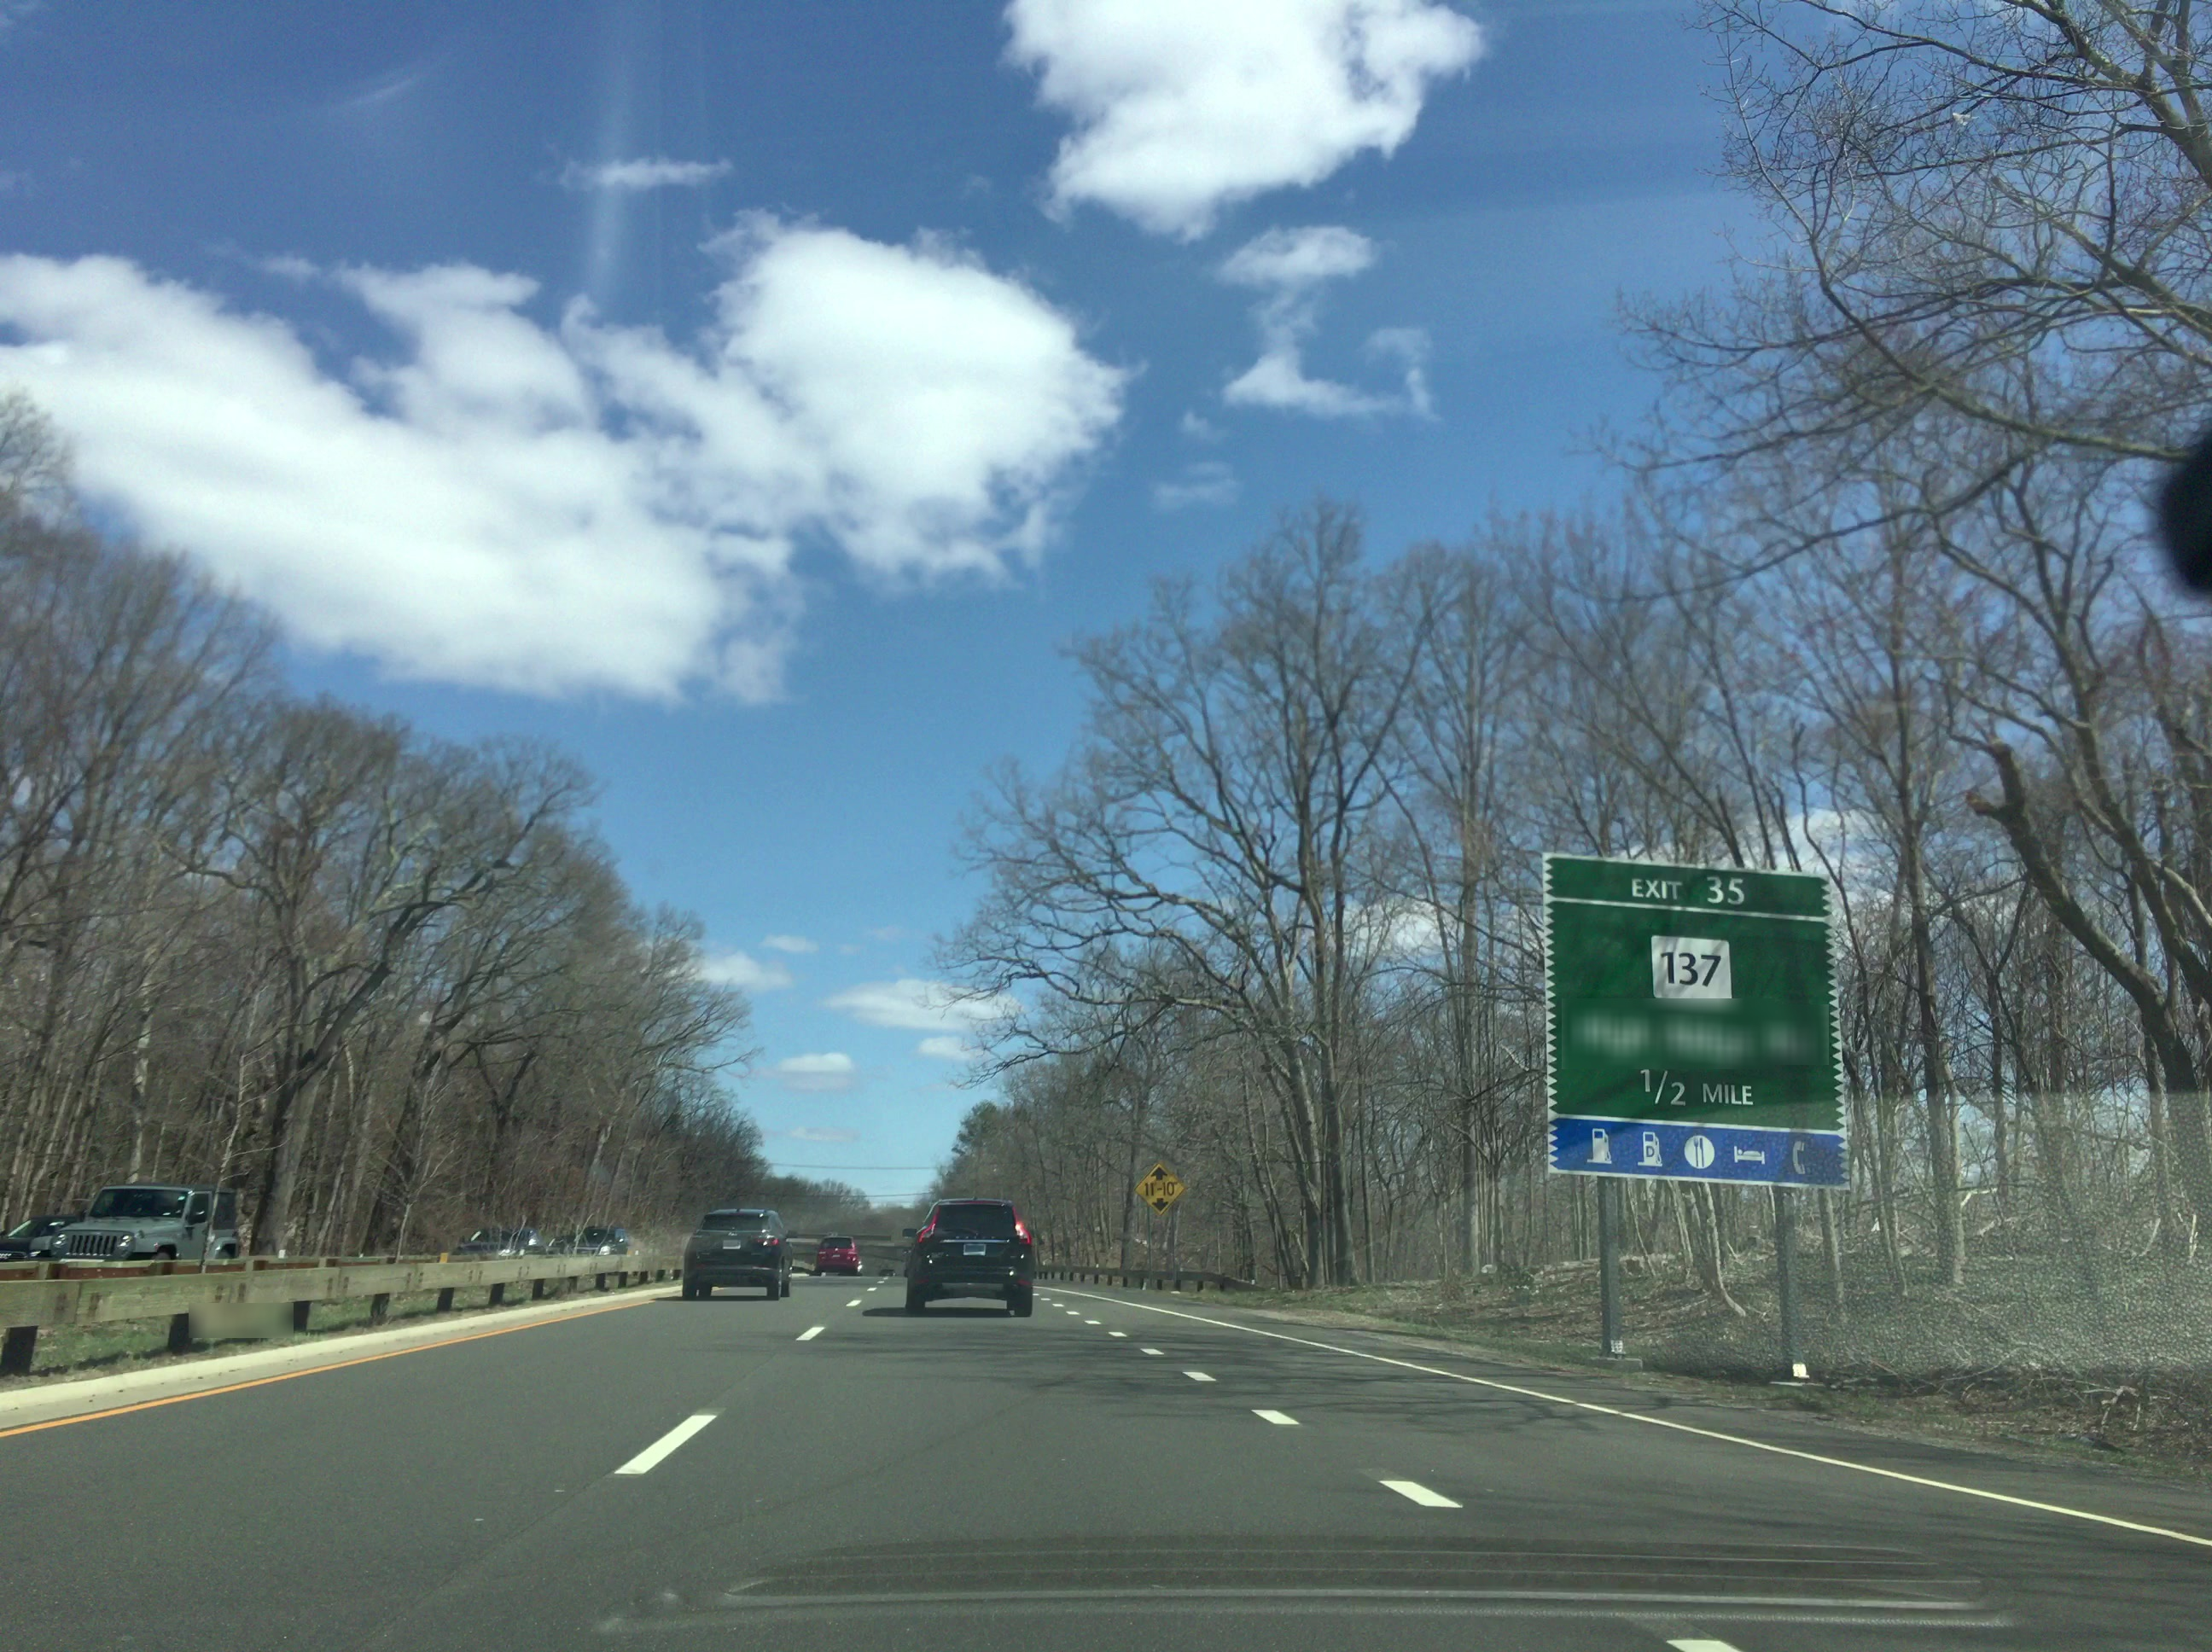low-clearance-sign: (1135, 1163, 1185, 1215)
